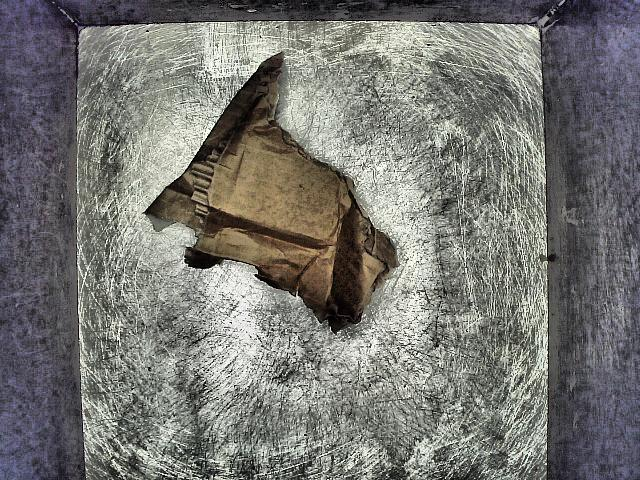Paper: (109, 50, 445, 367)
